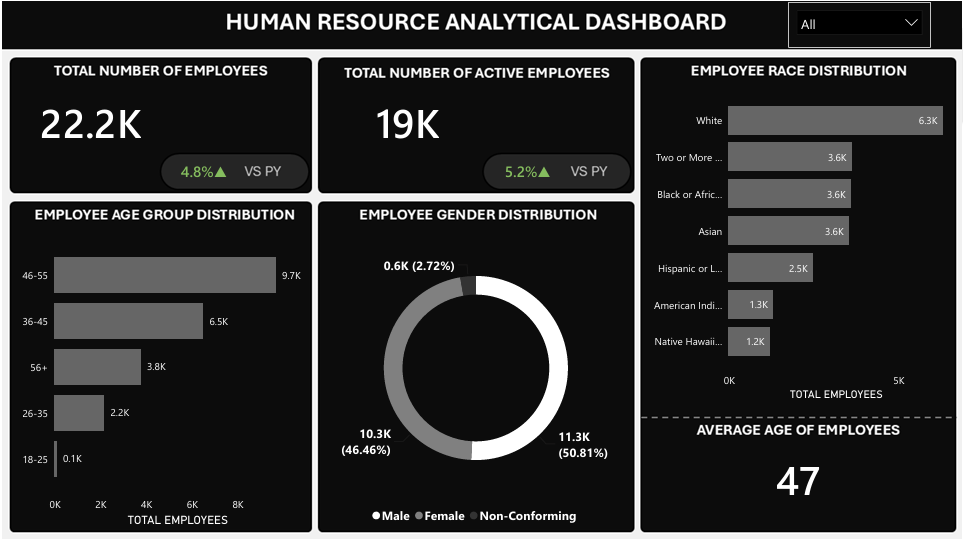

This screenshot's page, from the dashboard's own definition file:
{"tool":"powerbi","page":{"name":"EMPLOYEE DEMOGRAPHICS","canvas":[1280,720],"ordinal":0},"visuals":[{"type":"cardVisual","fields":{"Data":["MEASURES (2).TOTAL EMPLOYEES"]},"box":[16.5,115.6,200.9,85.3],"z":0},{"type":"cardVisual","fields":{"Data":["MEASURES (2).ACTIVE EMPLOYEES"]},"box":[439.1,115.6,200.9,85.3],"z":1000},{"type":"donutChart","fields":{"Category":["HUMAN RESOURCE CLEANED DATASET.gender"],"Y":["MEASURES (2).TOTAL EMPLOYEES"]},"box":[419.8,302.8,421.2,401.9],"z":2000},{"type":"clusteredBarChart","fields":{"Category":["HUMAN RESOURCE CLEANED DATASET.race"],"Y":["MEASURES (2).TOTAL EMPLOYEES"]},"box":[851.4,105.7,415.7,430],"z":3000},{"type":"cardVisual","fields":{"Data":["MEASURES (2).AVERAGE AGE"]},"box":[962.1,591.8,195.4,85.3],"z":4000},{"type":"clusteredBarChart","fields":{"Category":["HUMAN RESOURCE CLEANED DATASET.age_group"],"Y":["MEASURES (2).TOTAL EMPLOYEES"]},"box":[17.1,302.9,392.9,401.4],"z":5000},{"type":"slicer","fields":{"Values":["HUMAN RESOURCE CLEANED DATASET.hire_date.Variation.Date Hierarchy.Year1"]},"box":[1047.1,0,190,61.4],"z":6000},{"type":"cardVisual","fields":{"Data":["MEASURES (2).% YOY TOTAL EMPLOYEES"]},"box":[207.8,191.3,200.9,64.7],"z":7000},{"type":"cardVisual","fields":{"Data":["MEASURES (2).% YOY ACTIVE EMPLOYEES"]},"box":[640,191.3,200.9,64.7],"z":8000}]}

Visuals, with their boxes in screenshot pixels (x1, y1, x2, y2), scaled from the page's 1280x720 canvas onto the 965x539 screenshot:
cardVisual - MEASURES (2).TOTAL EMPLOYEES: crop(12, 87, 164, 150)
cardVisual - MEASURES (2).ACTIVE EMPLOYEES: crop(331, 87, 482, 150)
donutChart - HUMAN RESOURCE CLEANED DATASET.gender x MEASURES (2).TOTAL EMPLOYEES: crop(316, 227, 634, 528)
clusteredBarChart - HUMAN RESOURCE CLEANED DATASET.race x MEASURES (2).TOTAL EMPLOYEES: crop(642, 79, 955, 401)
cardVisual - MEASURES (2).AVERAGE AGE: crop(725, 443, 873, 507)
clusteredBarChart - HUMAN RESOURCE CLEANED DATASET.age_group x MEASURES (2).TOTAL EMPLOYEES: crop(13, 227, 309, 527)
slicer - HUMAN RESOURCE CLEANED DATASET.hire_date.Variation.Date Hierarchy.Year1: crop(789, 0, 933, 46)
cardVisual - MEASURES (2).% YOY TOTAL EMPLOYEES: crop(157, 143, 308, 192)
cardVisual - MEASURES (2).% YOY ACTIVE EMPLOYEES: crop(482, 143, 634, 192)
